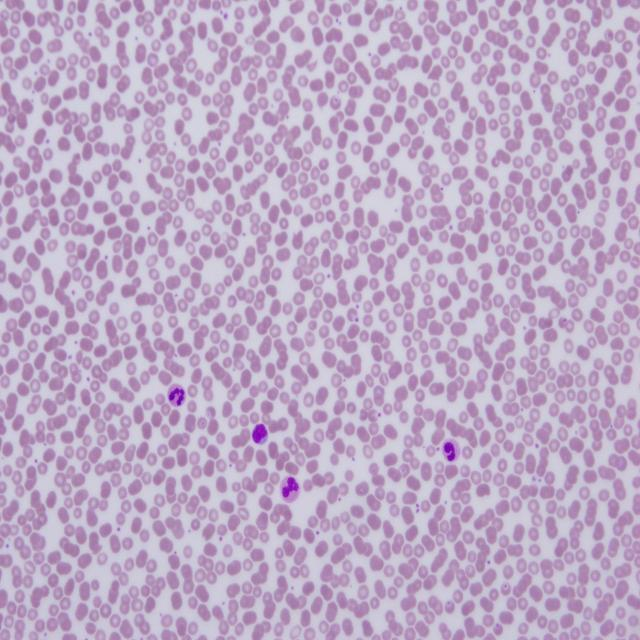cell: (281, 477, 300, 504), (442, 440, 460, 462), (168, 384, 185, 406)
